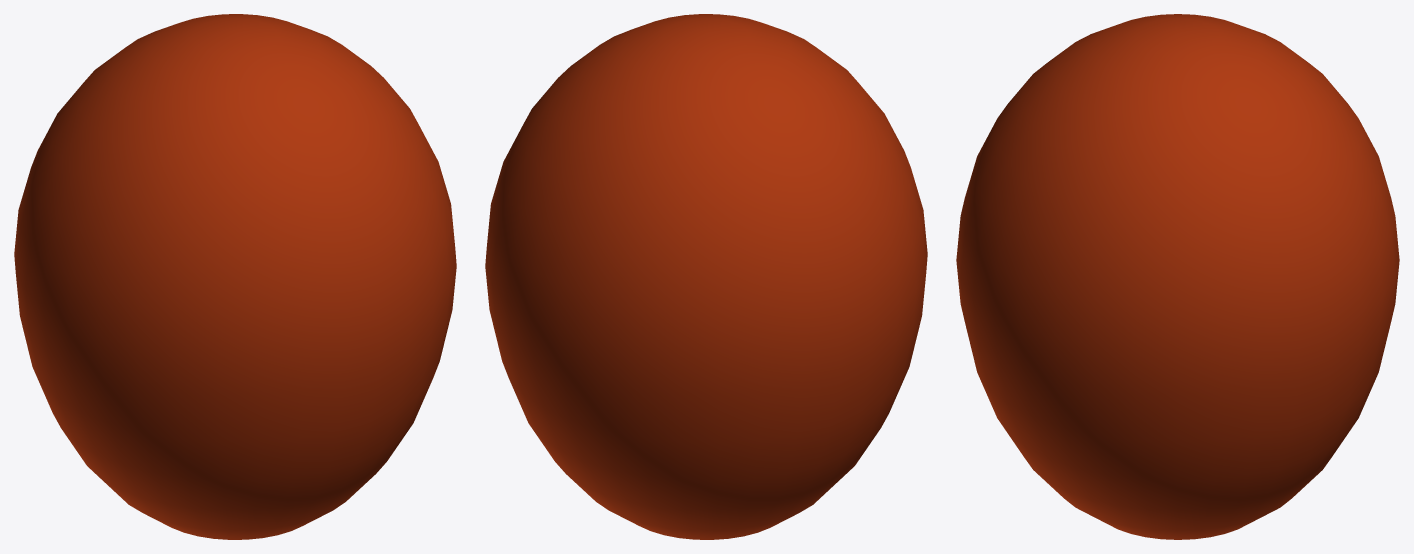
File: Mango 2.FBX
3 renders of one model, left to right at view 1: azimuth 30°, elevation 25°; view 2: azimuth 150°, elevation 25°; view 3: azimuth 270°, elevation 25°, orthographic.
Visible parts, largest first — view 1: Sphere001; view 2: Sphere001; view 3: Sphere001.
Part boxes in pixels (x1=…): Sphere001: x1=14, y1=14, x2=456, y2=539; Sphere001: x1=485, y1=14, x2=927, y2=539; Sphere001: x1=956, y1=14, x2=1399, y2=539.
Size of the model in its own units: 44.93 by 55.08 by 44.93.
